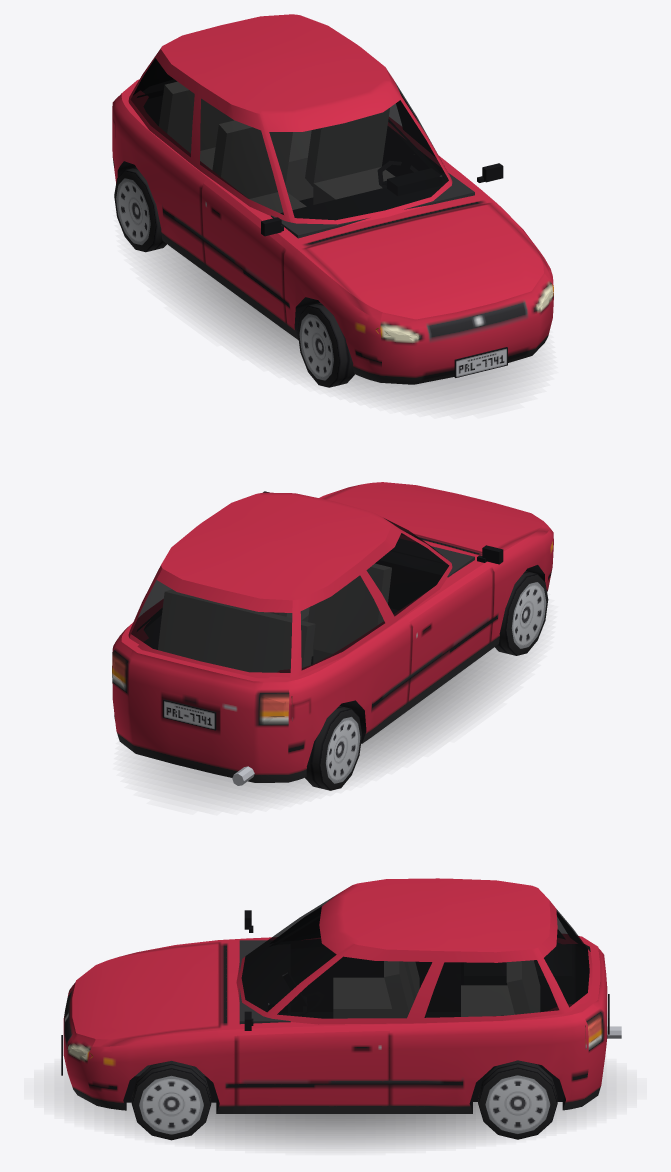
The model's file is pirulito.glb.
3 views of the same model, one above another, from view 1: azimuth 30°, elevation 25°; view 2: azimuth 150°, elevation 25°; view 3: azimuth 270°, elevation 25° (orthographic). The views are drawn at different scales.
Visible parts, largest first — view 1: Carroceria, Interior, Capo_malha, Porta_D_malha, Sombra, Roda_DD, Roda_TD, Porta_E_malha; view 2: Carroceria, Tampa_malha, Interior, Porta_D_malha, Sombra, Capo_malha, Roda_TD, Roda_DD, Lanterna; view 3: Carroceria, Interior, Porta_E_malha, Capo_malha, Sombra, Roda_DE, Roda_TE, Tampa_malha, Porta_D_malha.
Boxes of the visible parts, x1=… form: Carroceria: x1=112, y1=14, x2=553, y2=384; Interior: x1=137, y1=80, x2=474, y2=238; Capo_malha: x1=305, y1=203, x2=549, y2=320; Porta_D_malha: x1=201, y1=103, x2=290, y2=322; Sombra: x1=146, y1=244, x2=531, y2=404; Roda_DD: x1=297, y1=302, x2=354, y2=387; Roda_TD: x1=114, y1=167, x2=166, y2=252; Porta_E_malha: x1=385, y1=67, x2=503, y2=182; Carroceria: x1=112, y1=485, x2=553, y2=785; Tampa_malha: x1=127, y1=568, x2=292, y2=761; Interior: x1=137, y1=539, x2=474, y2=671; Porta_D_malha: x1=383, y1=525, x2=503, y2=701; Sombra: x1=142, y1=647, x2=522, y2=800; Capo_malha: x1=324, y1=482, x2=549, y2=552; Roda_TD: x1=305, y1=706, x2=362, y2=790; Roda_DD: x1=495, y1=571, x2=548, y2=655; Lanterna: x1=112, y1=652, x2=292, y2=722; Carroceria: x1=61, y1=878, x2=621, y2=1113; Interior: x1=135, y1=916, x2=590, y2=1076; Porta_E_malha: x1=237, y1=944, x2=389, y2=1105; Capo_malha: x1=78, y1=942, x2=219, y2=1046; Sombra: x1=64, y1=1076, x2=606, y2=1146; Roda_DE: x1=131, y1=1061, x2=211, y2=1140; Roda_TE: x1=478, y1=1060, x2=557, y2=1139; Tampa_malha: x1=538, y1=900, x2=609, y2=1075; Porta_D_malha: x1=244, y1=907, x2=320, y2=943.
Bounding box in the file's own units: 2.29 × 1.41 × 4.53.
Materials: 12 (6 with a texture image).
